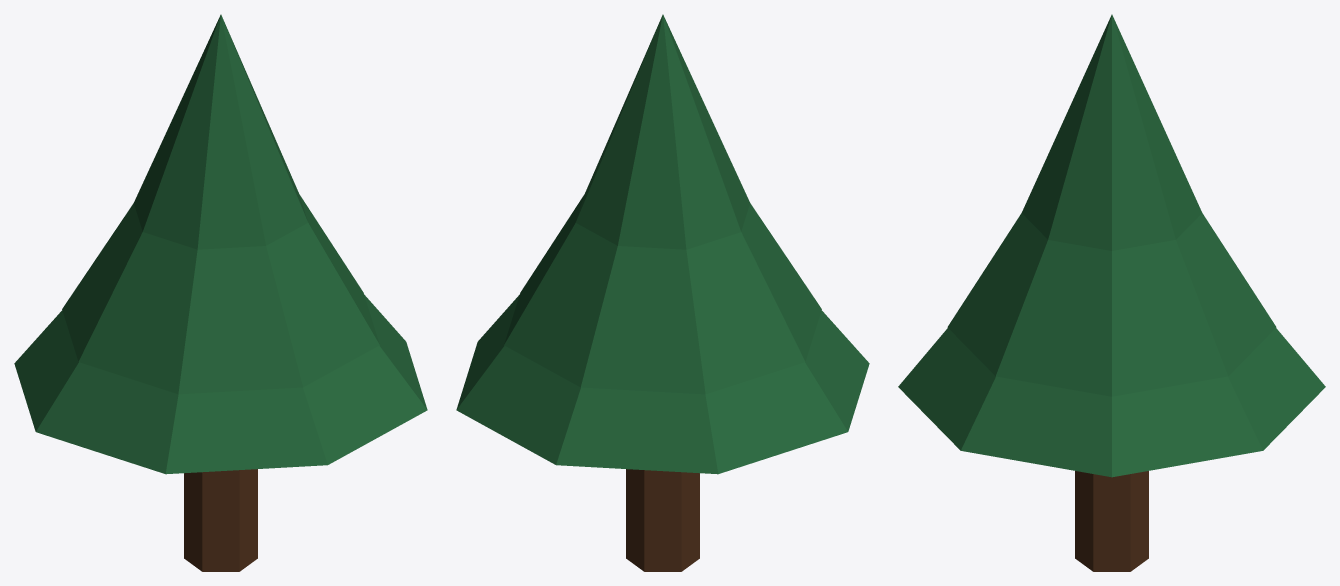
Rendered from pine_3.glb.
3 renders of one model, left to right at view 1: azimuth 30°, elevation 25°; view 2: azimuth 150°, elevation 25°; view 3: azimuth 270°, elevation 25°, orthographic.
Visible parts, largest first — view 1: Cone; view 2: Cone; view 3: Cone.
Boxes of the visible parts, bbox=[...] form: Cone: bbox=[14, 14, 427, 571]; Cone: bbox=[456, 14, 869, 571]; Cone: bbox=[898, 14, 1325, 571].
Size of the model in its own units: 1.25 by 1.75 by 1.25.
